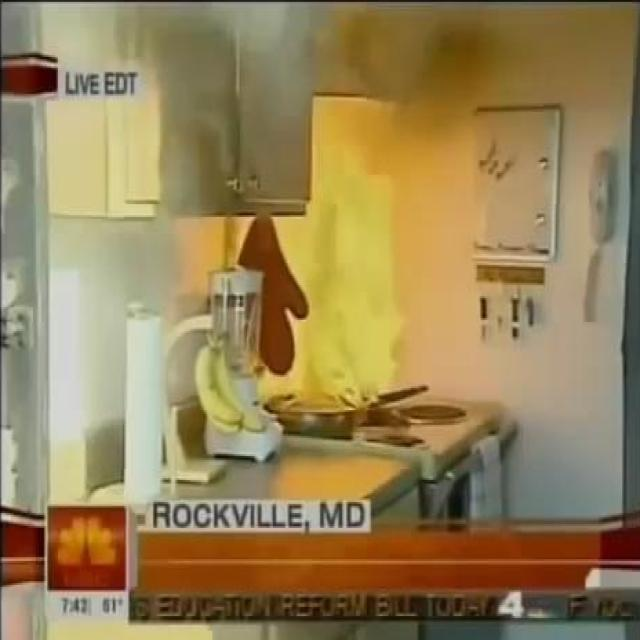fire: (215, 0, 353, 127)
smoke: (255, 97, 406, 416)
